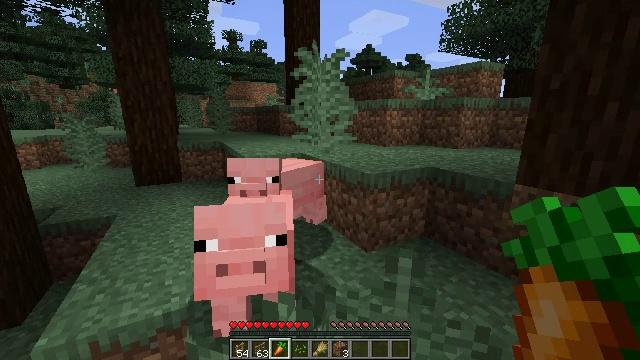pig: (194, 191, 295, 330), (225, 157, 326, 226)
